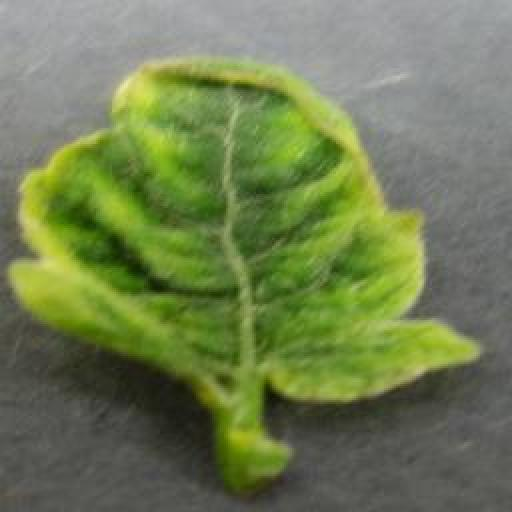Yellow Leaf Curl Virus: (9, 53, 484, 400)
